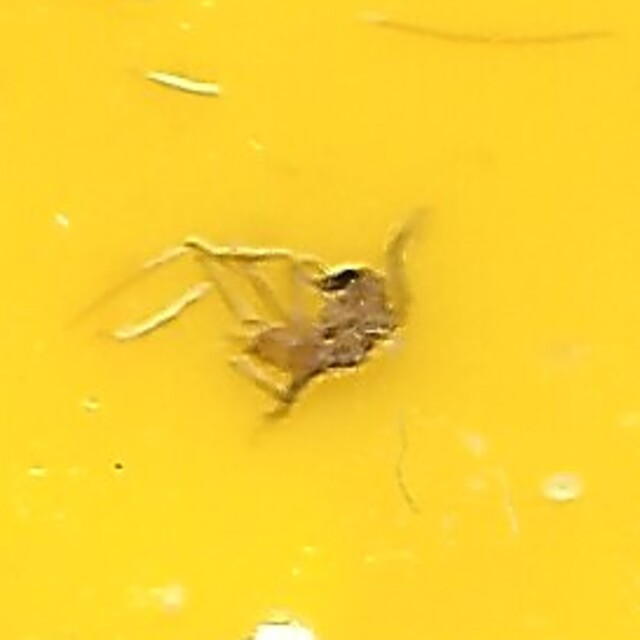Nematocera: (234, 252, 406, 388)
